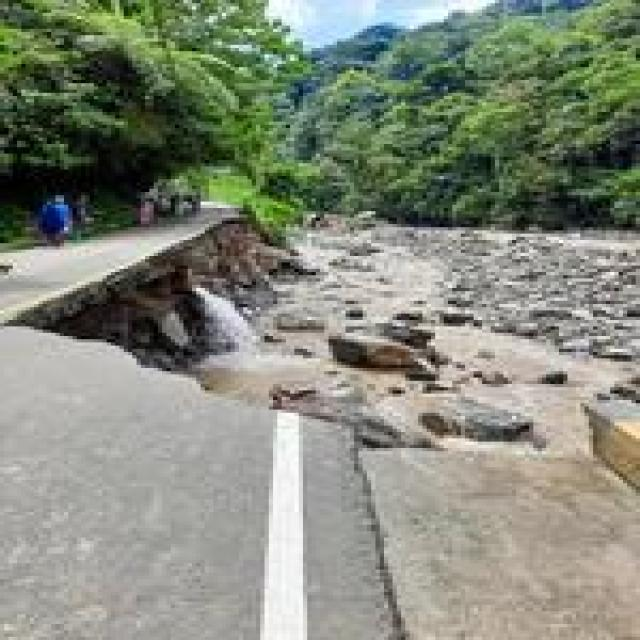road collapse: (0, 166, 640, 544)
